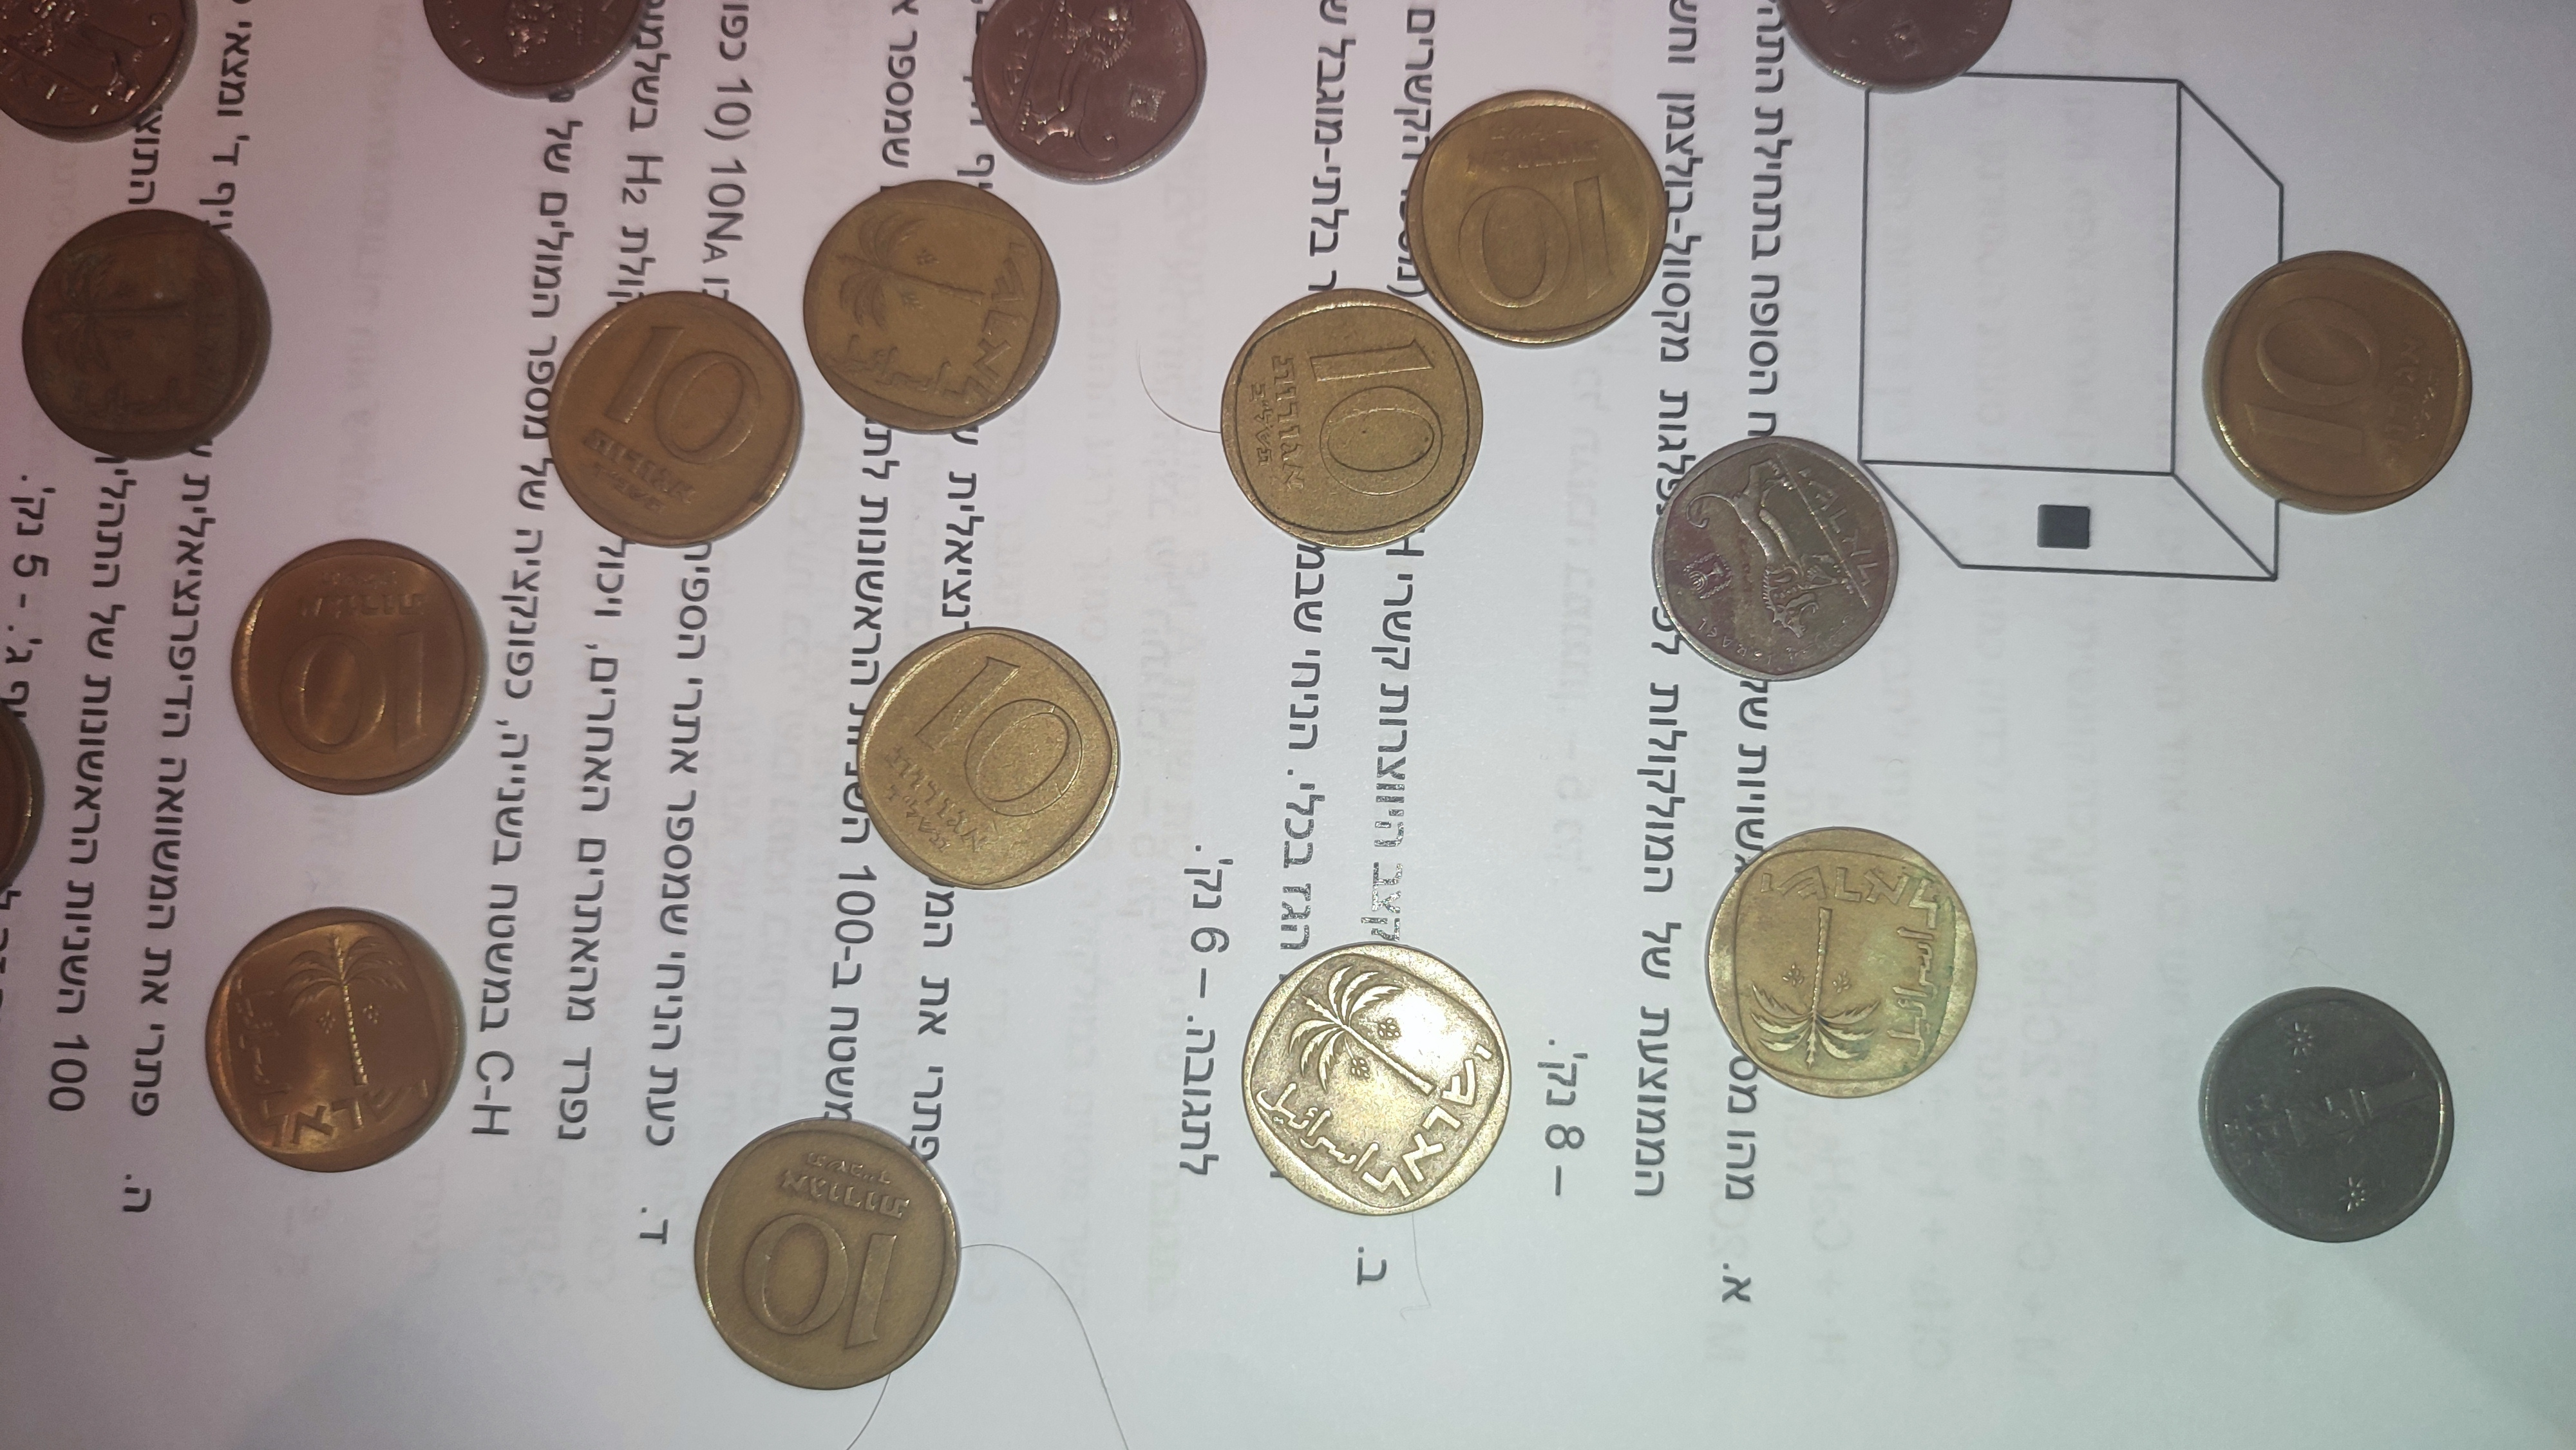1/2 old sheqel: (2196, 983, 2457, 1247), (1647, 430, 1904, 684), (968, 0, 1215, 189), (0, 0, 205, 147)
10 old agora brown: (1700, 822, 1982, 1107), (1238, 937, 1514, 1224), (690, 1116, 964, 1395), (202, 902, 471, 1179), (2199, 248, 2479, 515), (1399, 87, 1668, 357), (855, 622, 1123, 893), (1215, 285, 1486, 552), (540, 286, 807, 552), (225, 534, 490, 799), (800, 175, 1065, 437), (18, 207, 276, 465)
